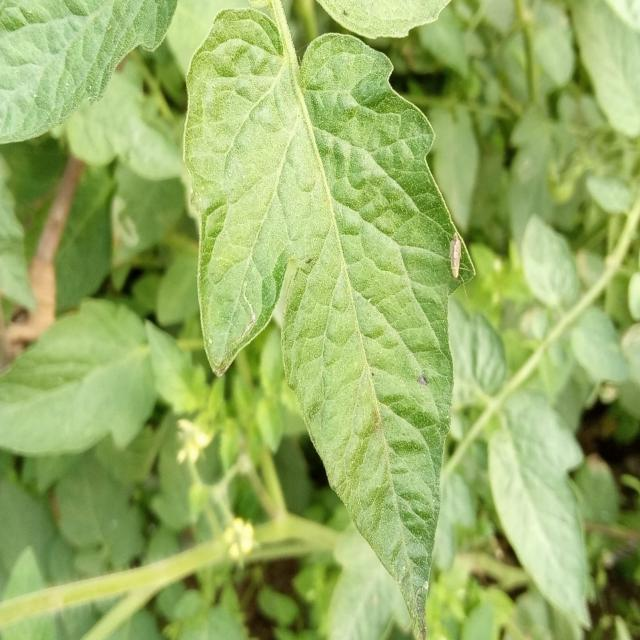Healthy: (171, 0, 495, 640)
